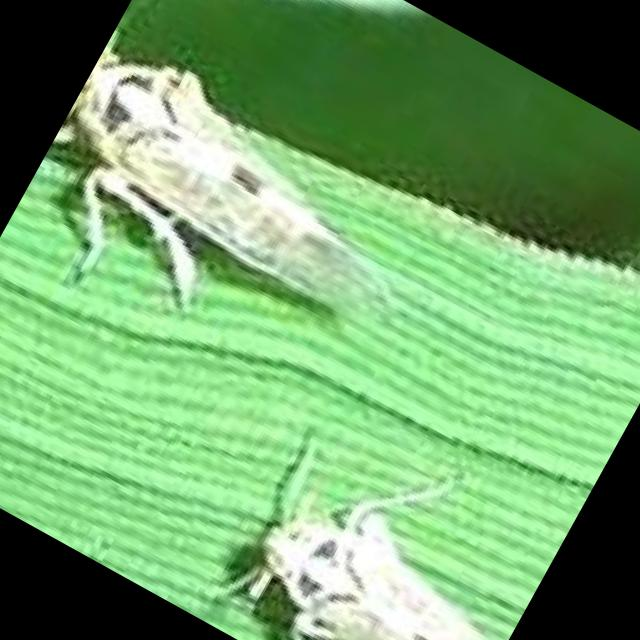brown-planthopper: (41, 28, 426, 336), (223, 474, 528, 640)
